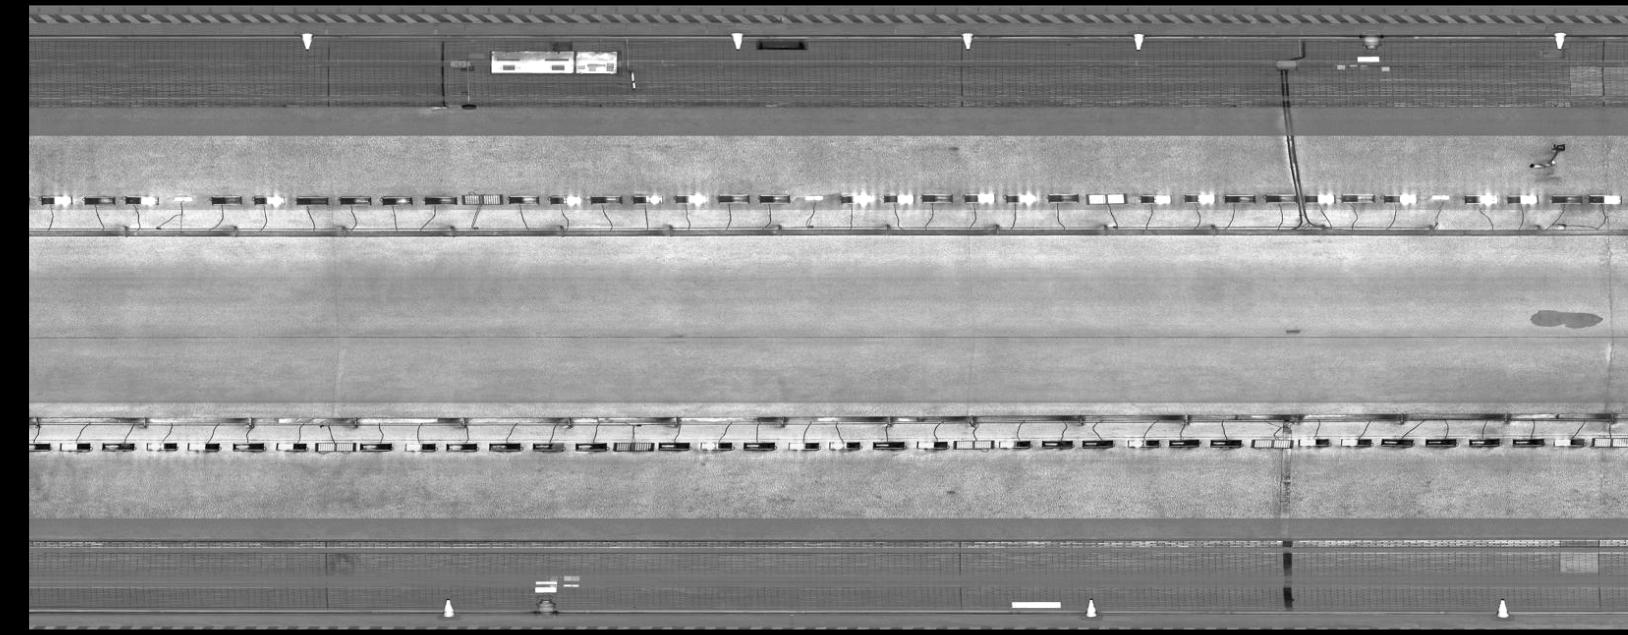light: (1247, 433, 1296, 451), (1082, 189, 1129, 208), (313, 437, 359, 454), (609, 437, 658, 453), (836, 188, 876, 208), (459, 190, 504, 208), (1588, 432, 1627, 451), (950, 436, 997, 452), (270, 437, 313, 454), (1181, 189, 1220, 208), (1138, 189, 1177, 208), (1000, 188, 1039, 206), (97, 438, 138, 454), (486, 437, 524, 454), (402, 437, 440, 454), (1461, 191, 1501, 208), (1299, 188, 1339, 204), (53, 438, 93, 454), (376, 192, 418, 208), (530, 438, 567, 455), (911, 435, 950, 451), (869, 436, 908, 452), (184, 437, 223, 453), (120, 191, 162, 206), (696, 437, 737, 452), (918, 189, 956, 205), (825, 436, 864, 452), (420, 192, 461, 208), (207, 192, 247, 208), (1549, 433, 1590, 448), (1164, 435, 1204, 450), (1122, 435, 1163, 450), (1076, 435, 1116, 450), (880, 190, 918, 206), (357, 438, 395, 454), (1339, 189, 1379, 204), (334, 192, 374, 208), (292, 192, 331, 208), (1205, 435, 1245, 450), (1044, 189, 1081, 205), (38, 191, 75, 208), (671, 191, 709, 206), (505, 191, 543, 206), (250, 192, 289, 208), (1378, 434, 1416, 449), (1379, 190, 1419, 204), (1509, 434, 1549, 448), (1420, 434, 1461, 448), (784, 438, 824, 452), (444, 438, 480, 454), (230, 438, 266, 454), (546, 192, 584, 208), (143, 438, 181, 453), (1337, 434, 1374, 449), (569, 439, 610, 452), (1465, 434, 1503, 448), (1295, 434, 1333, 448), (739, 438, 778, 452), (961, 190, 997, 205), (756, 191, 793, 205), (80, 193, 117, 208), (996, 436, 1033, 450), (655, 438, 693, 452), (1548, 192, 1588, 205), (715, 191, 752, 205), (1038, 436, 1075, 450), (1585, 192, 1624, 205), (1503, 192, 1542, 205), (1221, 191, 1259, 204), (587, 192, 624, 205), (630, 191, 664, 205), (1260, 192, 1299, 204), (29, 437, 52, 451), (169, 193, 196, 204), (801, 193, 826, 202), (1428, 191, 1454, 199)
